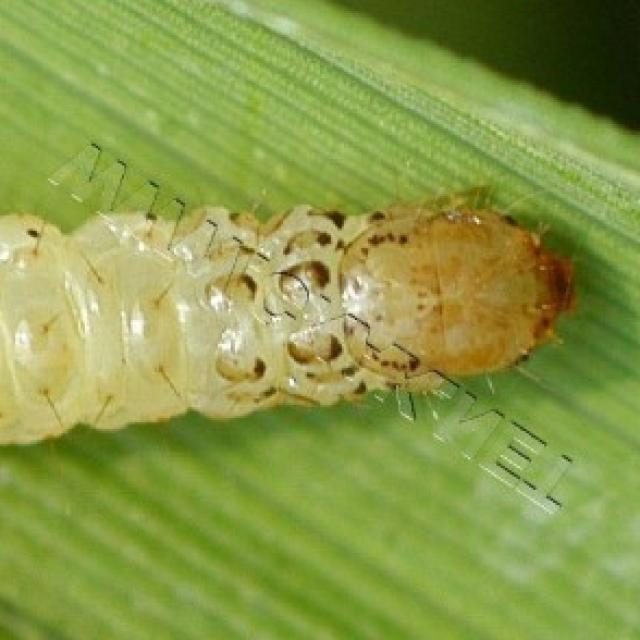rice leaf roller: (0, 205, 570, 444)
